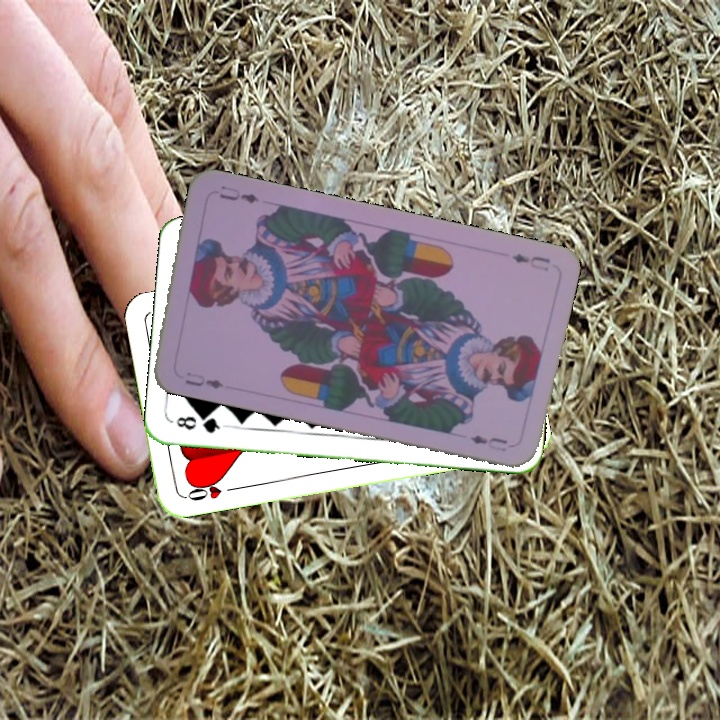EU: (181, 368, 226, 392), (508, 249, 553, 270)
G8: (172, 412, 222, 436)
HO: (181, 475, 240, 504)
